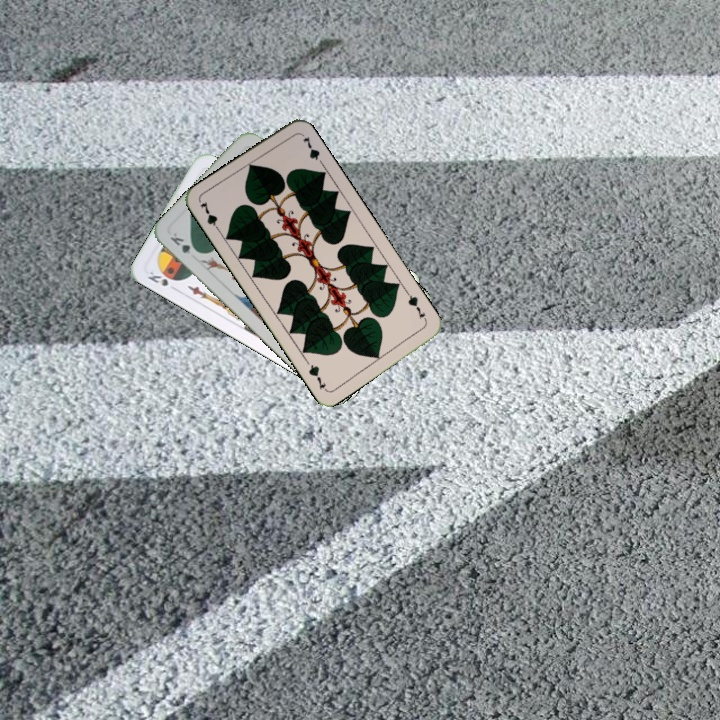G7: (196, 197, 223, 235), (402, 288, 430, 324)
GK: (166, 229, 202, 257)
SK: (143, 267, 171, 289)
